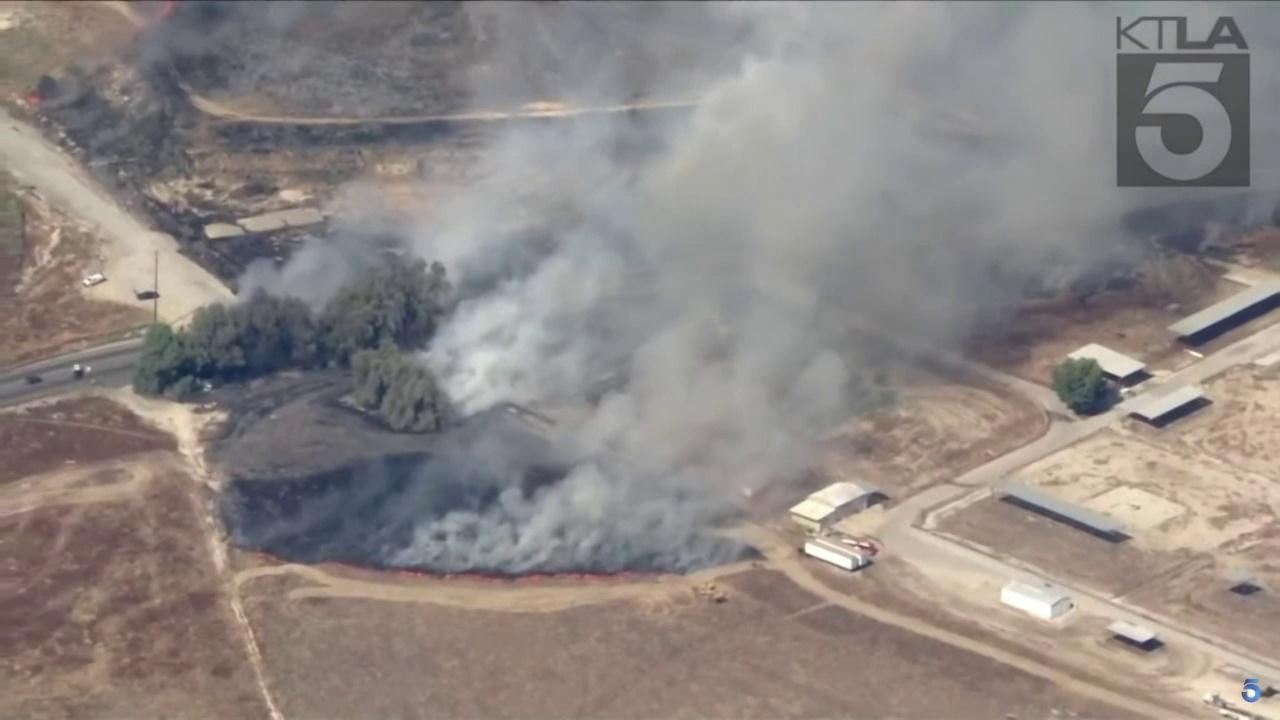fire: (443, 571, 642, 582), (153, 0, 178, 24), (254, 551, 277, 561), (25, 94, 41, 107), (398, 571, 423, 577)
smoke: (236, 0, 1280, 583), (41, 0, 311, 147)
